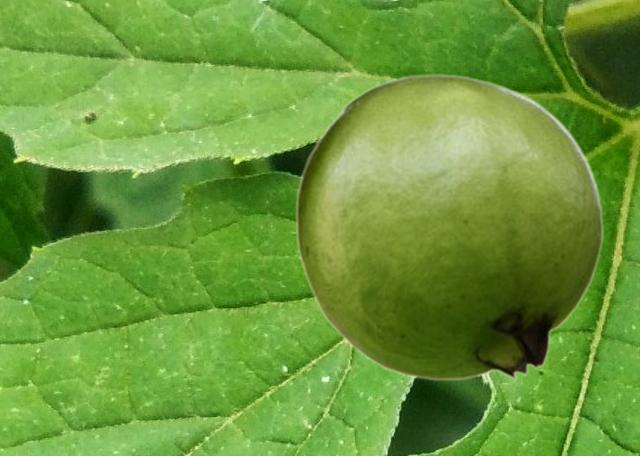guava: (294, 73, 603, 381)
